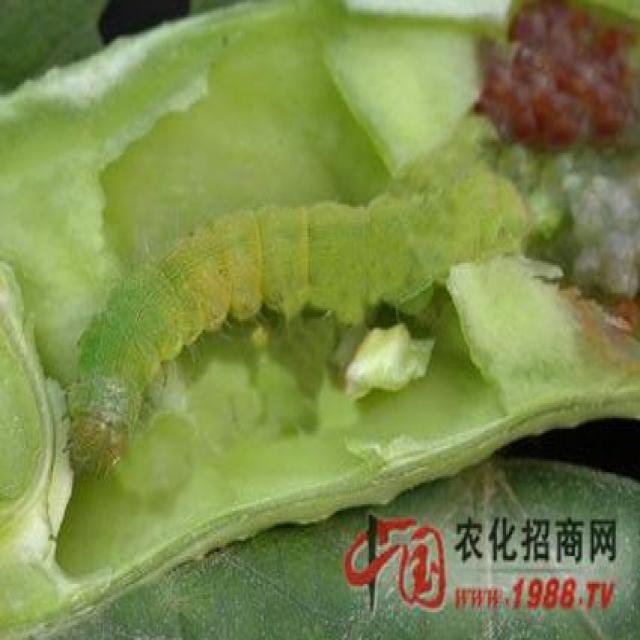armyworm: (50, 150, 542, 489)
